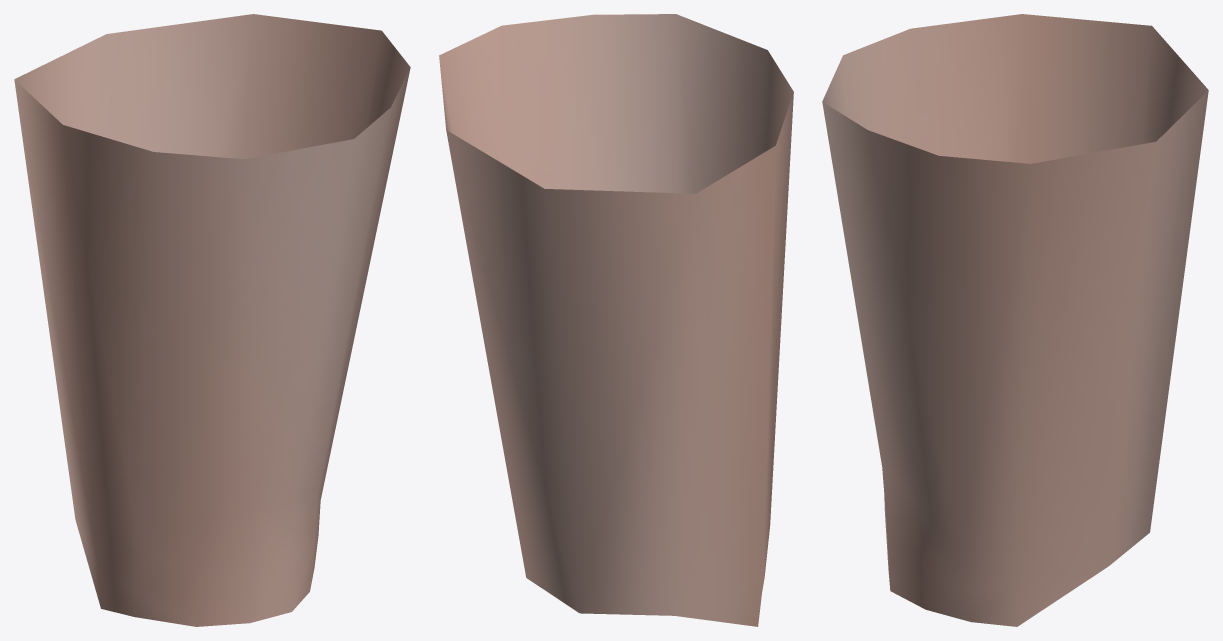
The model's file is KOSHIRO_Pierna_1.obj.
3 views of the same model, side by side, from view 1: azimuth 30°, elevation 25°; view 2: azimuth 150°, elevation 25°; view 3: azimuth 270°, elevation 25° (orthographic). The views are drawn at different scales.
Parts seen in each view (by area): view 1: Pierna_1_face_Plane.004; view 2: Pierna_1_face_Plane.004; view 3: Pierna_1_face_Plane.004.
Part boxes in pixels (x1=…): Pierna_1_face_Plane.004: x1=14, y1=14, x2=410, y2=626; Pierna_1_face_Plane.004: x1=439, y1=14, x2=793, y2=626; Pierna_1_face_Plane.004: x1=822, y1=14, x2=1208, y2=626.
Size of the model in its own units: 0.1208 by 0.1767 by 0.1215.
